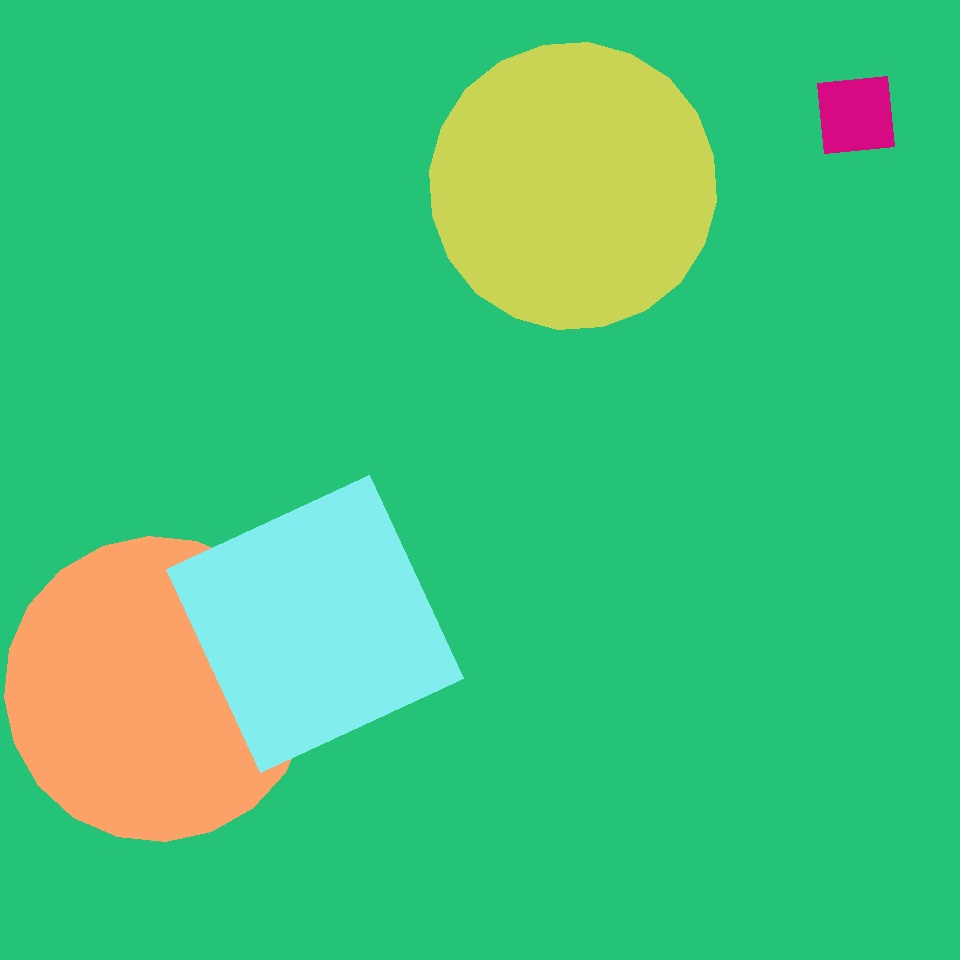circle: (468, 430, 741, 687), (167, 732, 348, 903)
square: (166, 476, 464, 772), (508, 89, 706, 287), (212, 475, 318, 581), (818, 76, 895, 154)
triangle: (310, 564, 684, 938), (5, 536, 310, 841), (430, 43, 716, 330), (164, 14, 354, 204)
